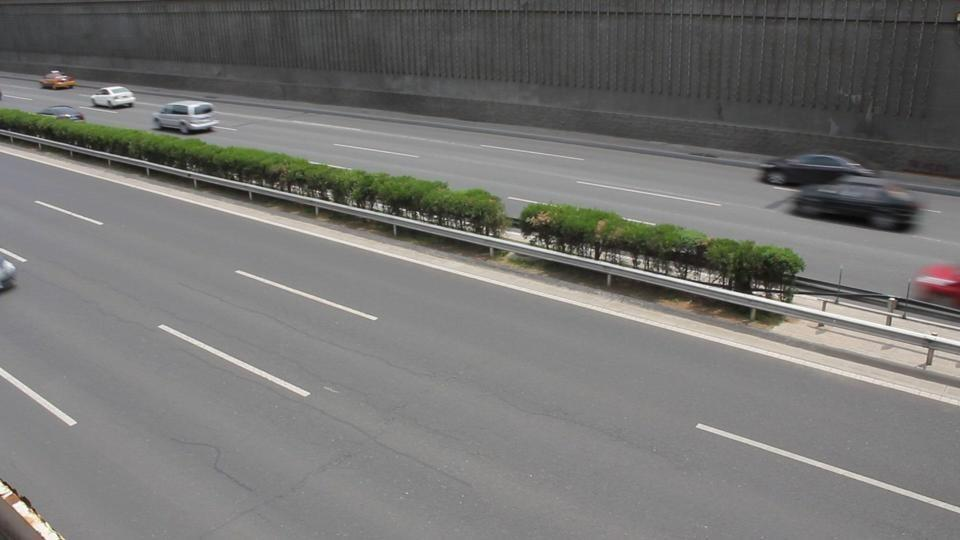car: (791, 177, 921, 232), (760, 152, 871, 189), (906, 261, 960, 308), (152, 101, 218, 135), (91, 84, 136, 110), (38, 69, 77, 90), (40, 106, 87, 122), (0, 253, 19, 290)
